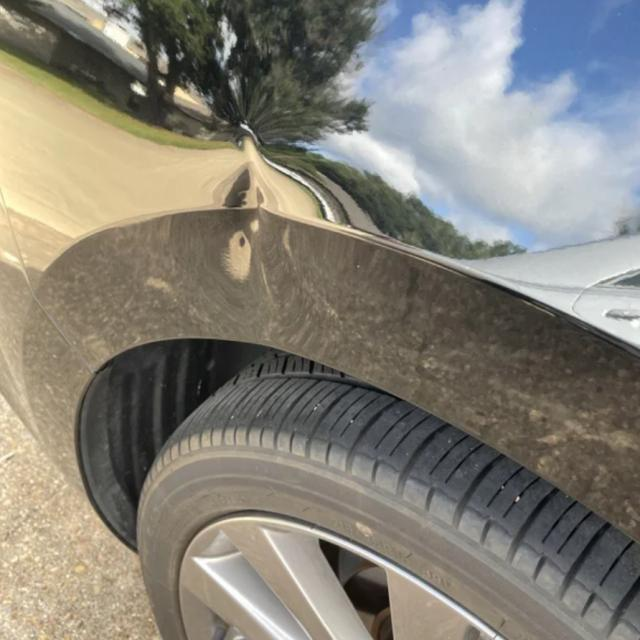dents: (175, 111, 272, 295)
